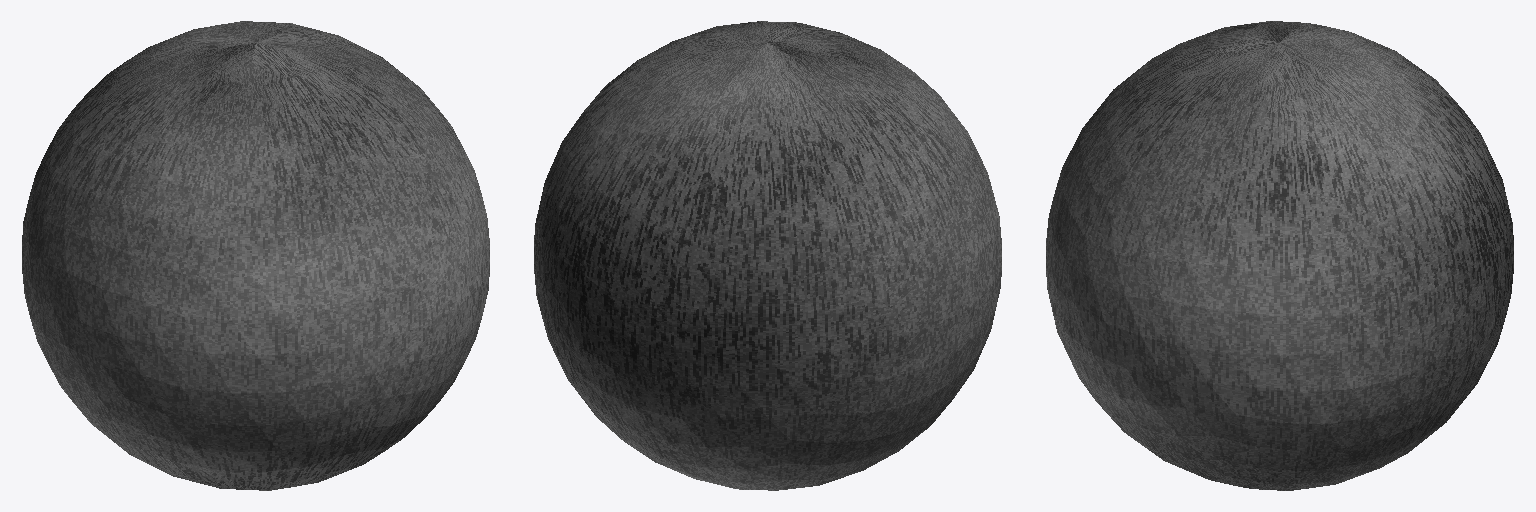
3 views of the same model, side by side, from view 1: azimuth 30°, elevation 25°; view 2: azimuth 150°, elevation 25°; view 3: azimuth 270°, elevation 25° (orthographic).
Bounding box in the file's own units: 2 × 2 × 1.99.
Materials: 1 (1 with a texture image).